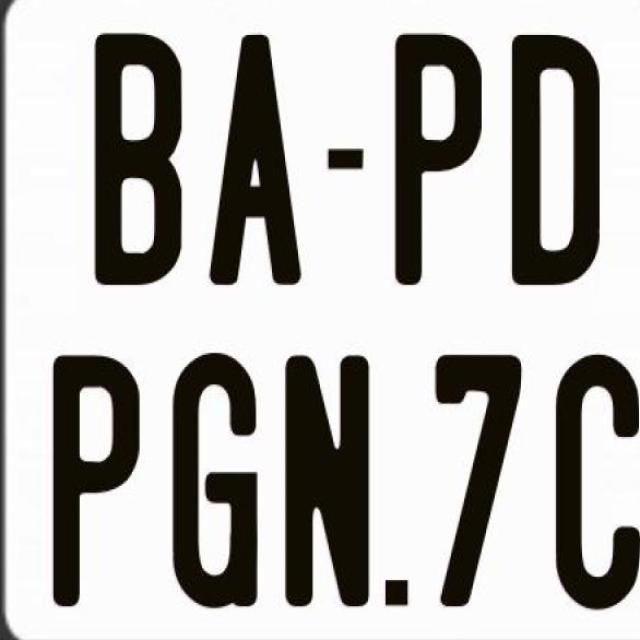license-plate: (16, 26, 640, 631)
